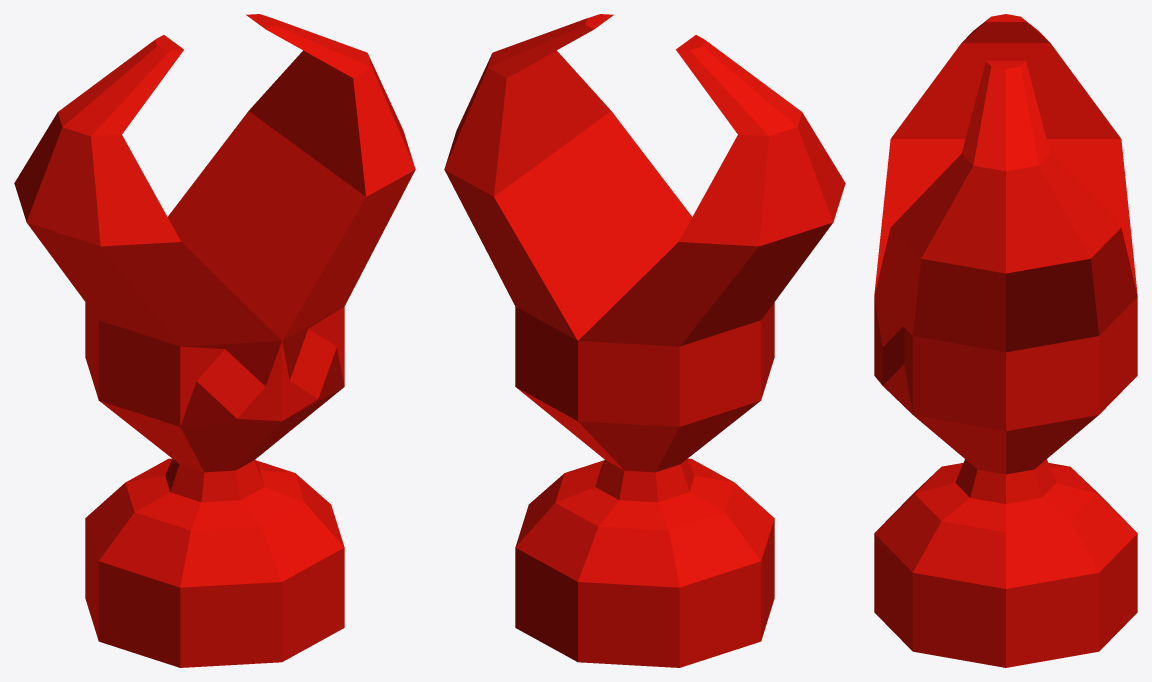
File: Enemy Icon.fbx
The picture shows the model from 3 angles, left to right: view 1: azimuth 30°, elevation 25°; view 2: azimuth 150°, elevation 25°; view 3: azimuth 270°, elevation 25°; orthographic projection.
Parts seen in each view (by area): view 1: Enemy; view 2: Enemy; view 3: Enemy.
Part boxes in pixels (x1,y1,x2,y2): Enemy: (14, 14, 415, 667); Enemy: (444, 14, 845, 667); Enemy: (874, 14, 1137, 667).
Size of the model in its own units: 137 by 201 by 84.31.
